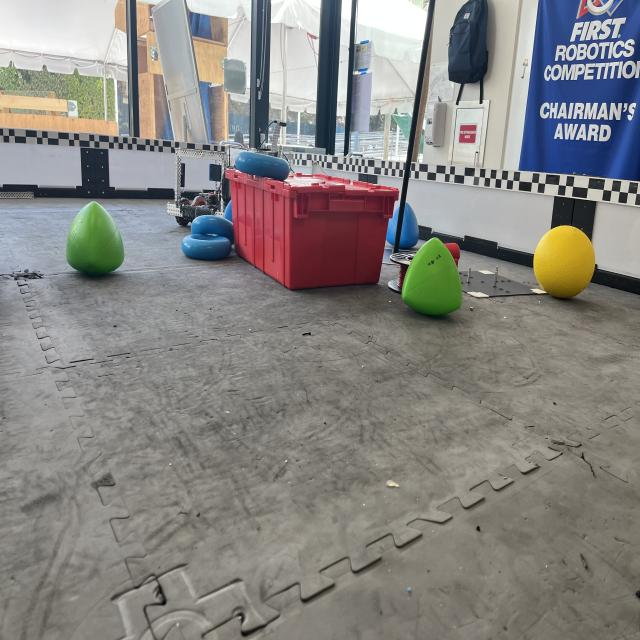Blue-Ring: (235, 150, 290, 182), (181, 233, 231, 260), (191, 215, 234, 243)
